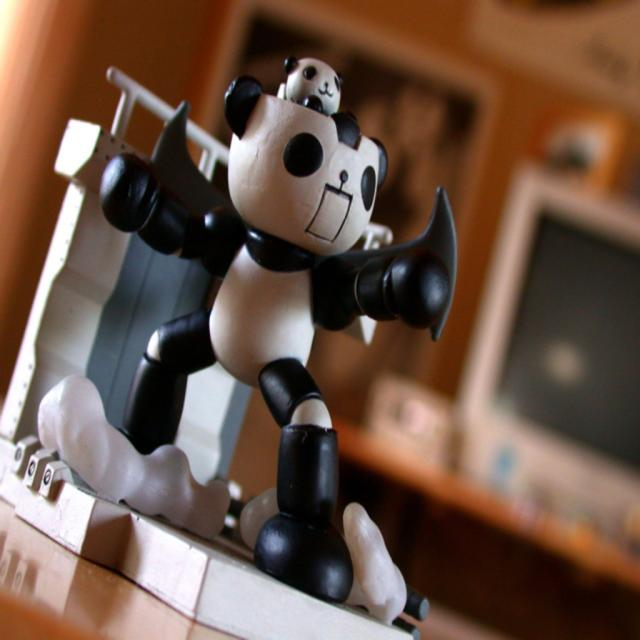panda: (100, 75, 444, 601), (282, 53, 342, 111)
